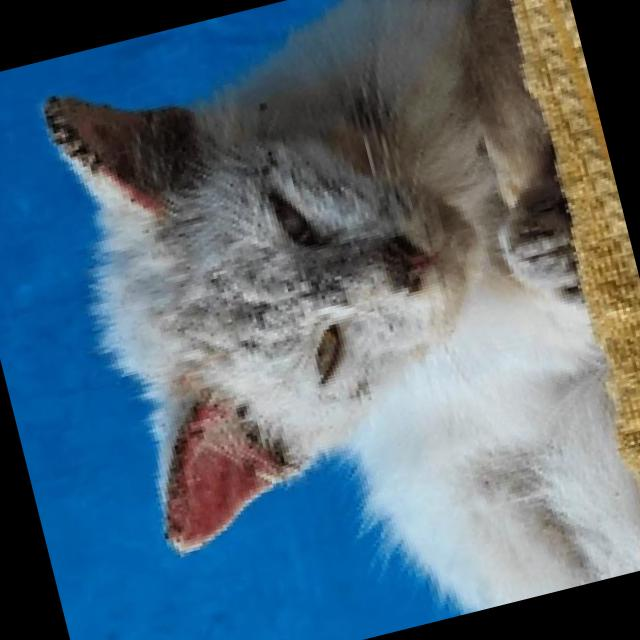Mange: (163, 388, 216, 552), (40, 90, 109, 174), (278, 259, 354, 323), (220, 292, 287, 352), (198, 256, 250, 306)
